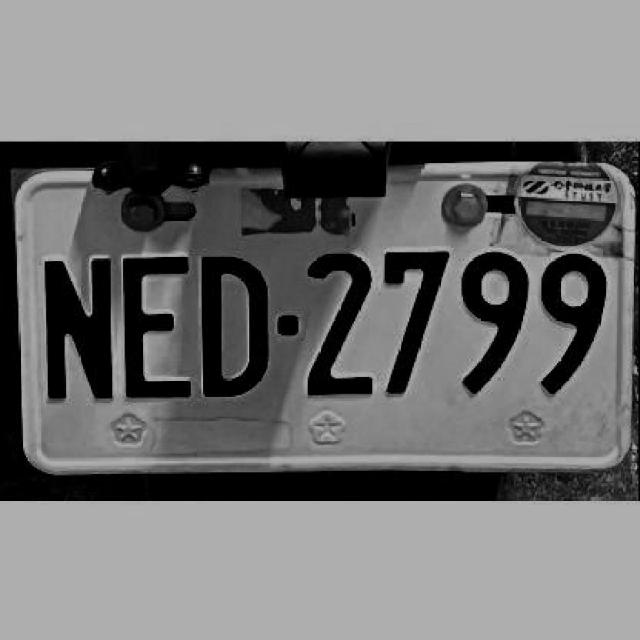-: (276, 308, 298, 335)
2: (300, 246, 375, 397)
7: (377, 245, 448, 403)
9: (455, 250, 534, 398), (534, 250, 608, 396)
D: (196, 247, 270, 398)
E: (118, 248, 196, 395)
N: (40, 256, 118, 398)
